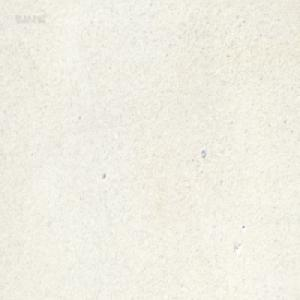Washer: (201, 149, 206, 158)
